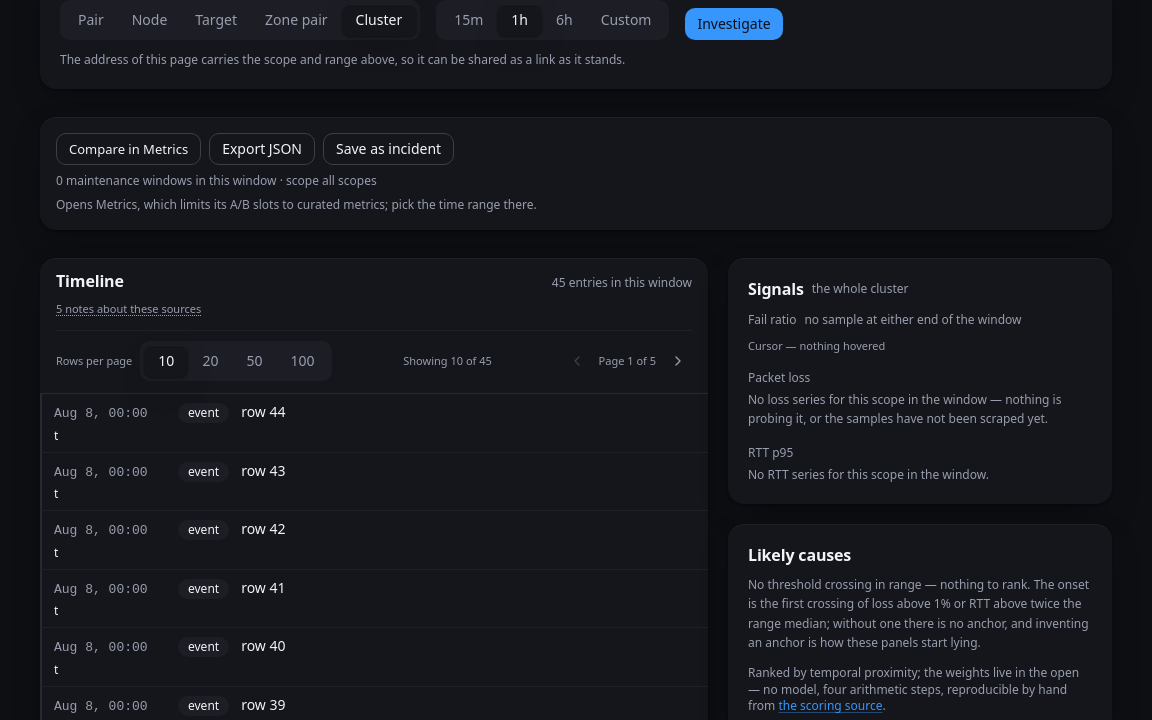
Test case: the timeline under volume and abuse › anchors the last page's first row when the size changes under it
This screenshot has width=1152, height=720.
(page scrolled)
Click the button named "Next page". click: (678, 361)
box: [664, 347, 692, 375]
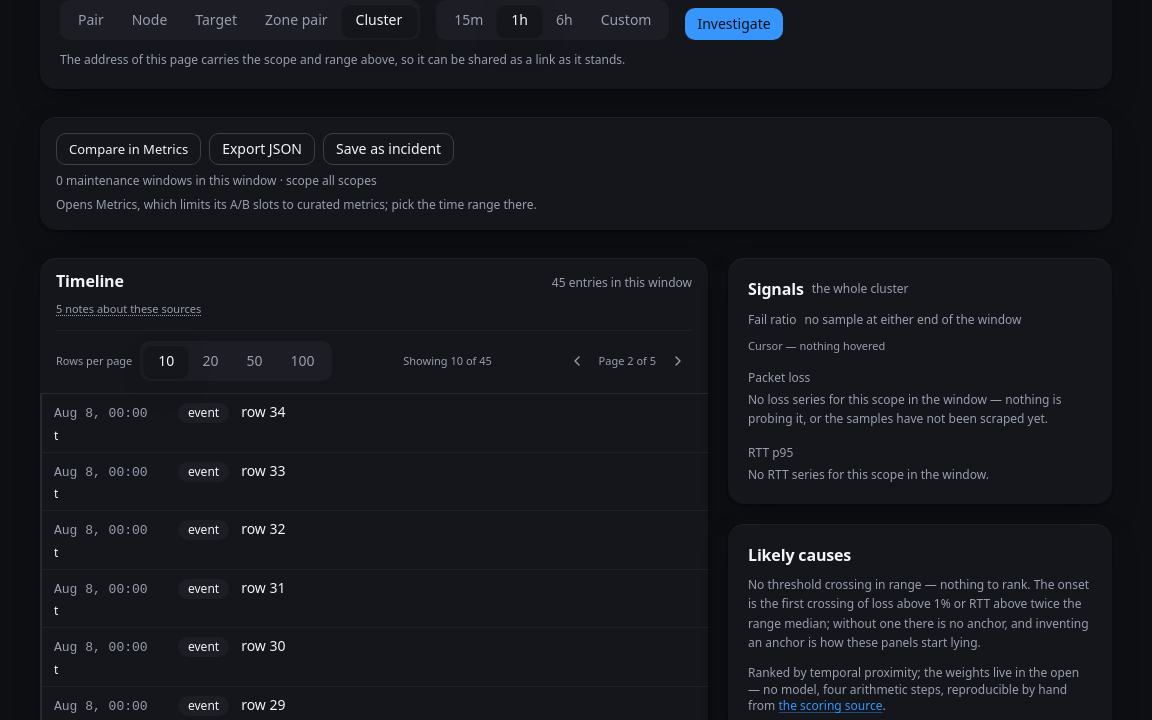
Click the button named "Next page". click: (678, 361)
box: [664, 347, 692, 375]
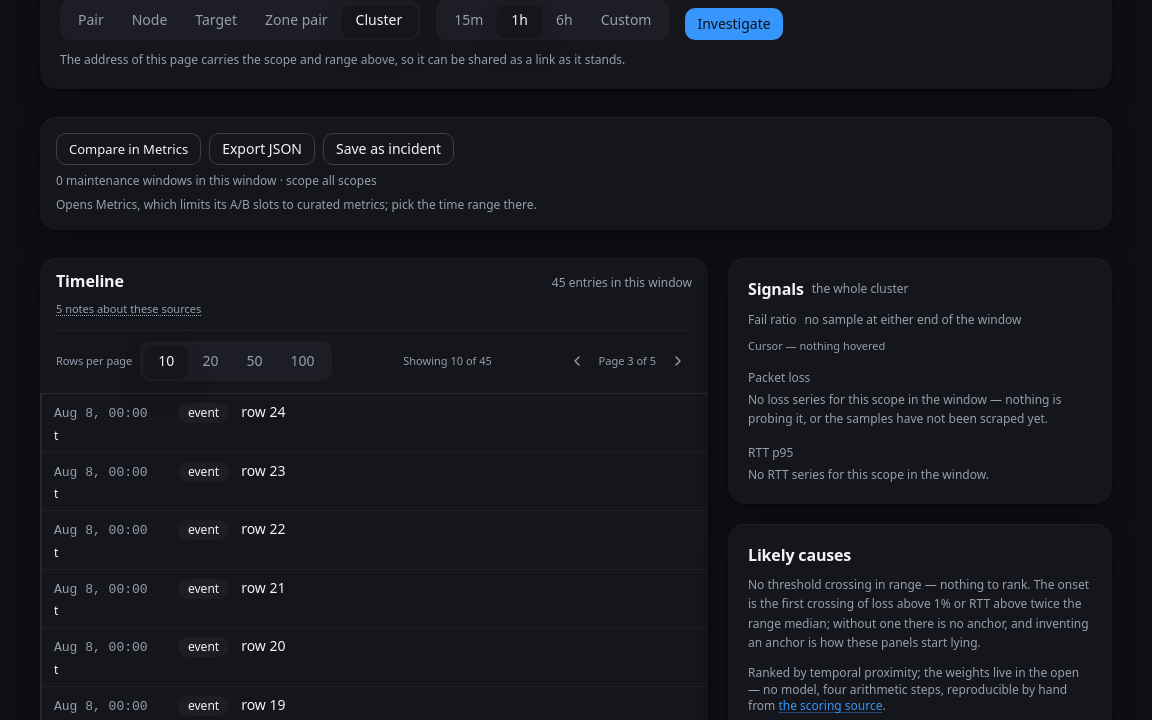
Click the button named "Next page". click: (678, 361)
box: [664, 347, 692, 375]
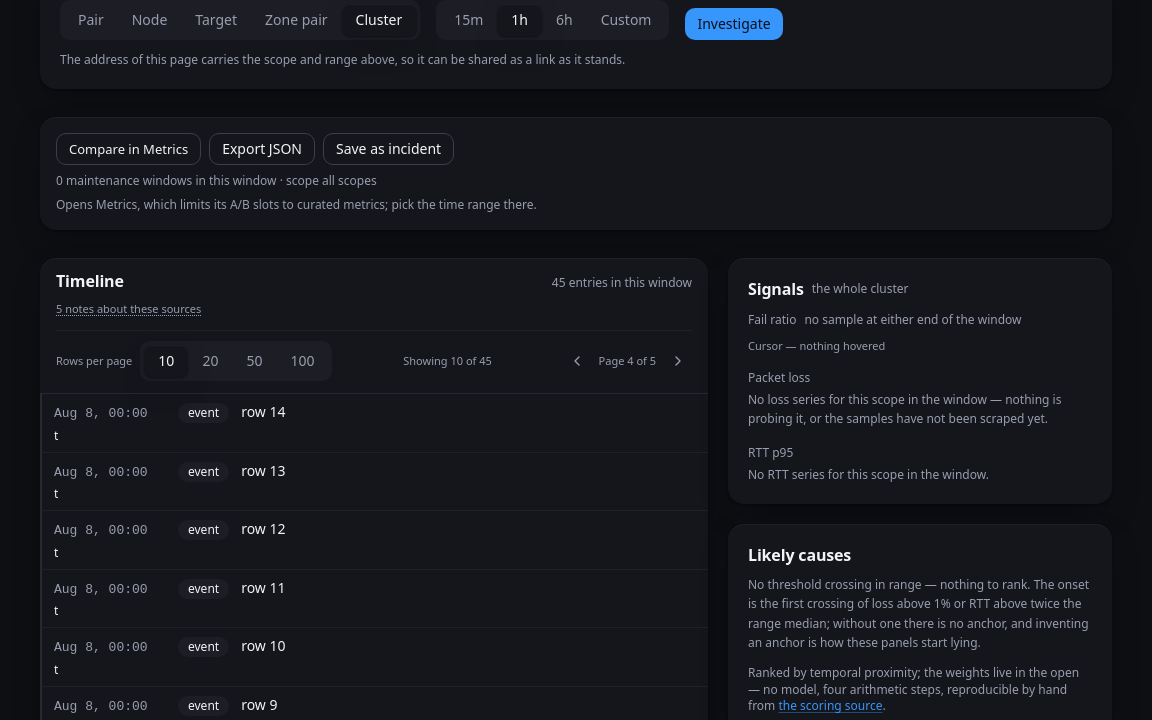
Click the button named "Next page". click: (678, 361)
box: [664, 347, 692, 375]
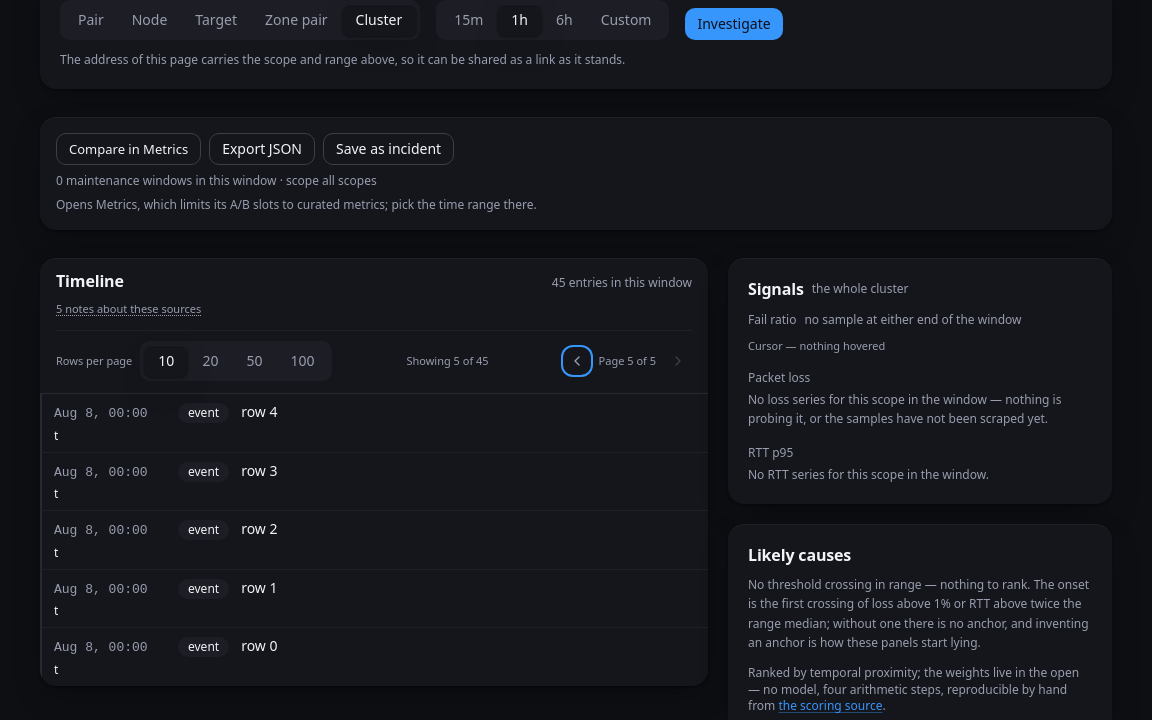
Click the radio button labelled "50". click: (254, 361)
box: [232, 345, 276, 377]
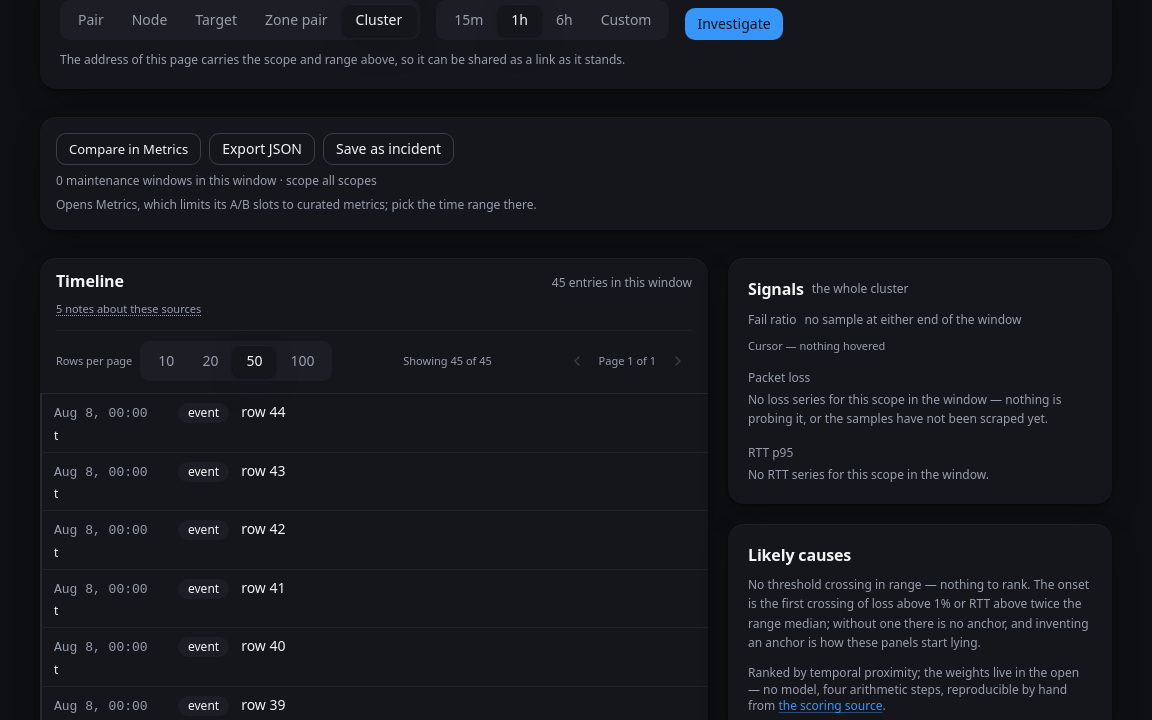
Now the text with test id "pager-page" reads "Page 1 of 1", box [599, 353, 656, 368]
Now the number of list items with test id "timeline-row" is 45
